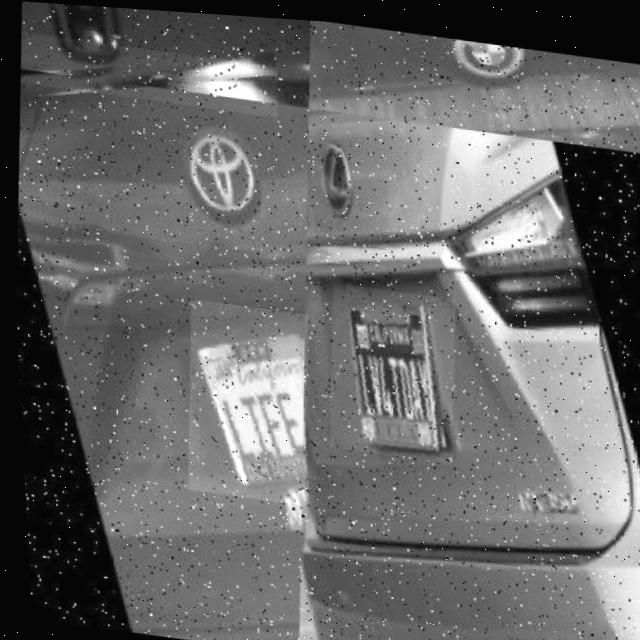LicensePlate: (174, 296, 312, 501), (318, 277, 458, 458), (18, 31, 280, 113)
